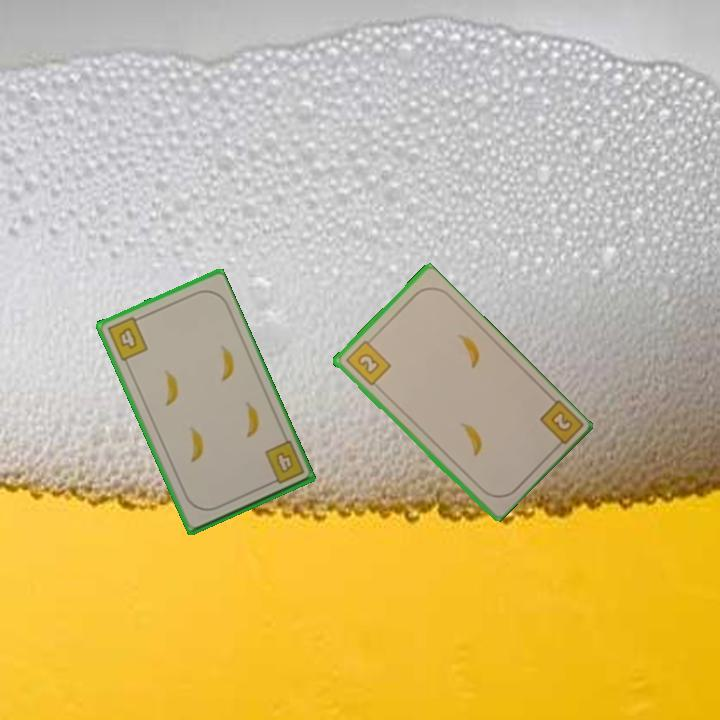2b: (535, 396, 584, 454), (342, 334, 393, 389)
4b: (103, 312, 151, 364), (260, 437, 307, 488)
